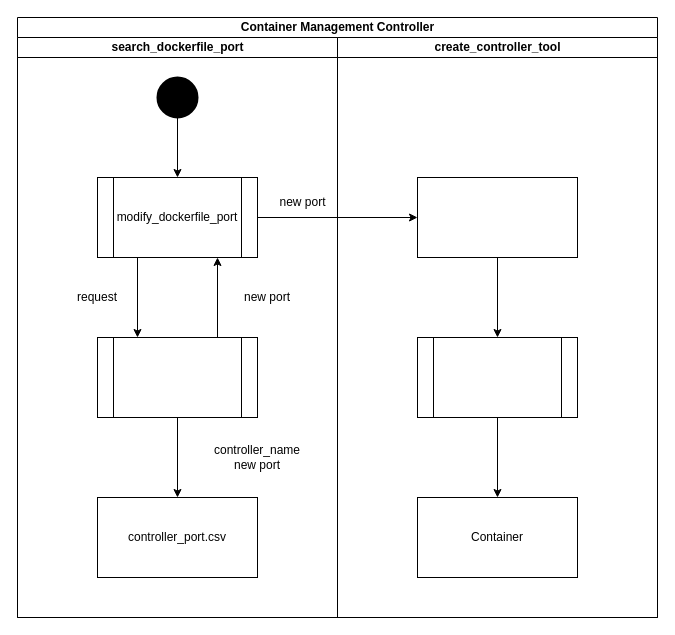
Image size: 675x635. Some labels were removed from this diagram. Each missing label, with the centre of its shape:
check_no_same_port: the point at 177,377
create_controller: the point at 497,377
Dockerfile(new): the point at 497,217
